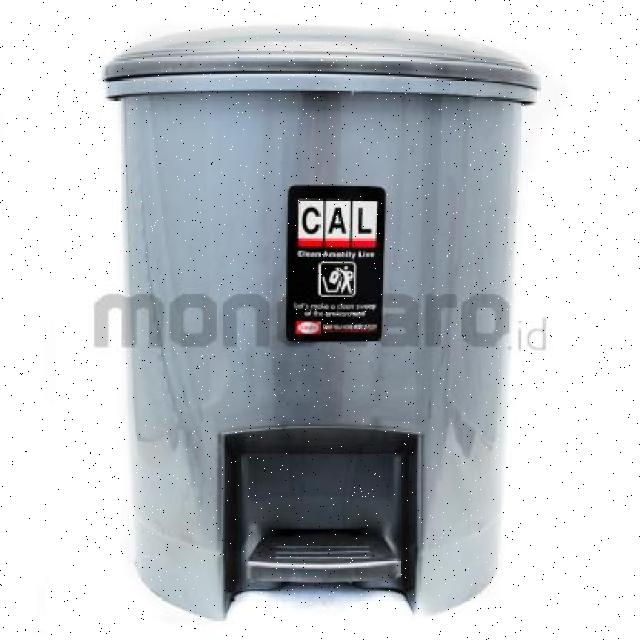garbage container: (78, 14, 553, 637)
